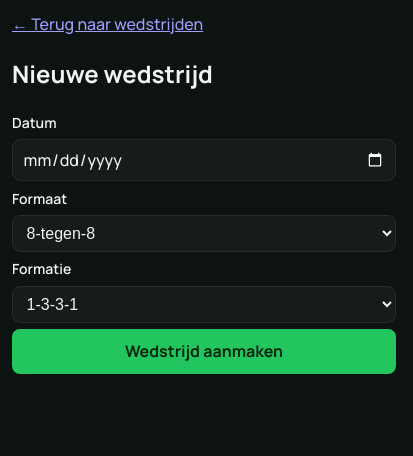
Test case: NewWedstrijdScreen › moves focus to the datum field on a create error, instead of only showing red text
Type "2026-09-20" into the date field labelled "Datum" at (204, 160), box [12,139,396,181]
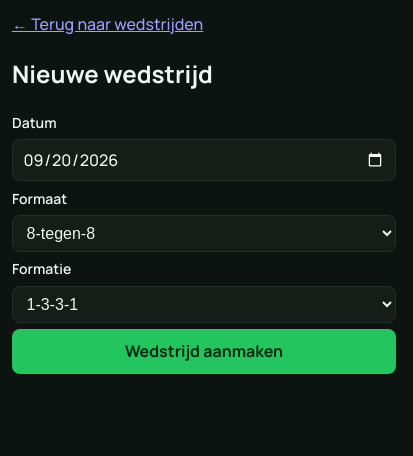
Click the button "Wedstrijd aanmaken" at (204, 351), box [12,329,396,374]
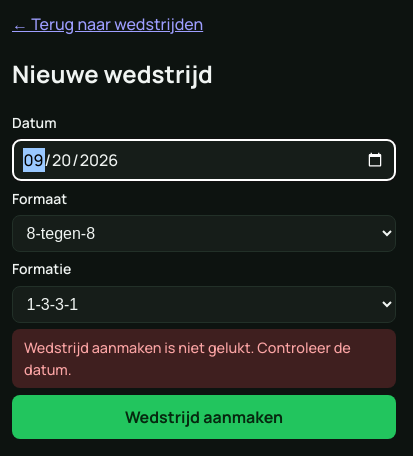
Result: the message shows "niet gelukt" at [24,338,351,379]
